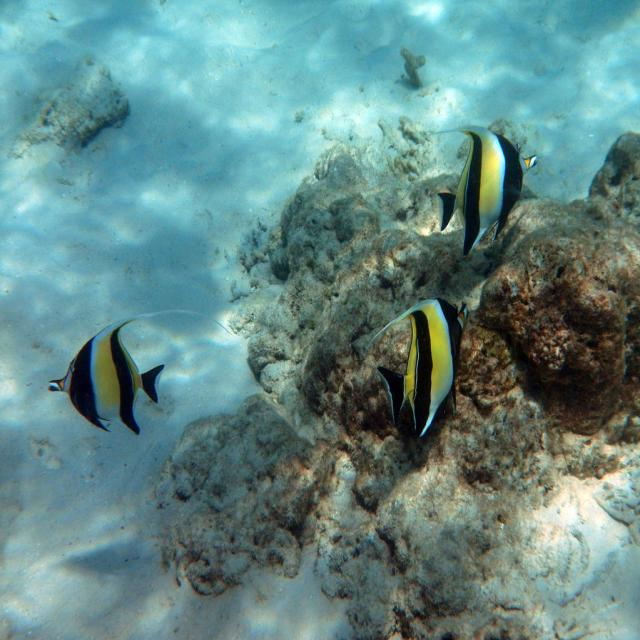MorishIdol: (366, 295, 469, 440), (46, 315, 165, 437), (434, 124, 538, 258)
